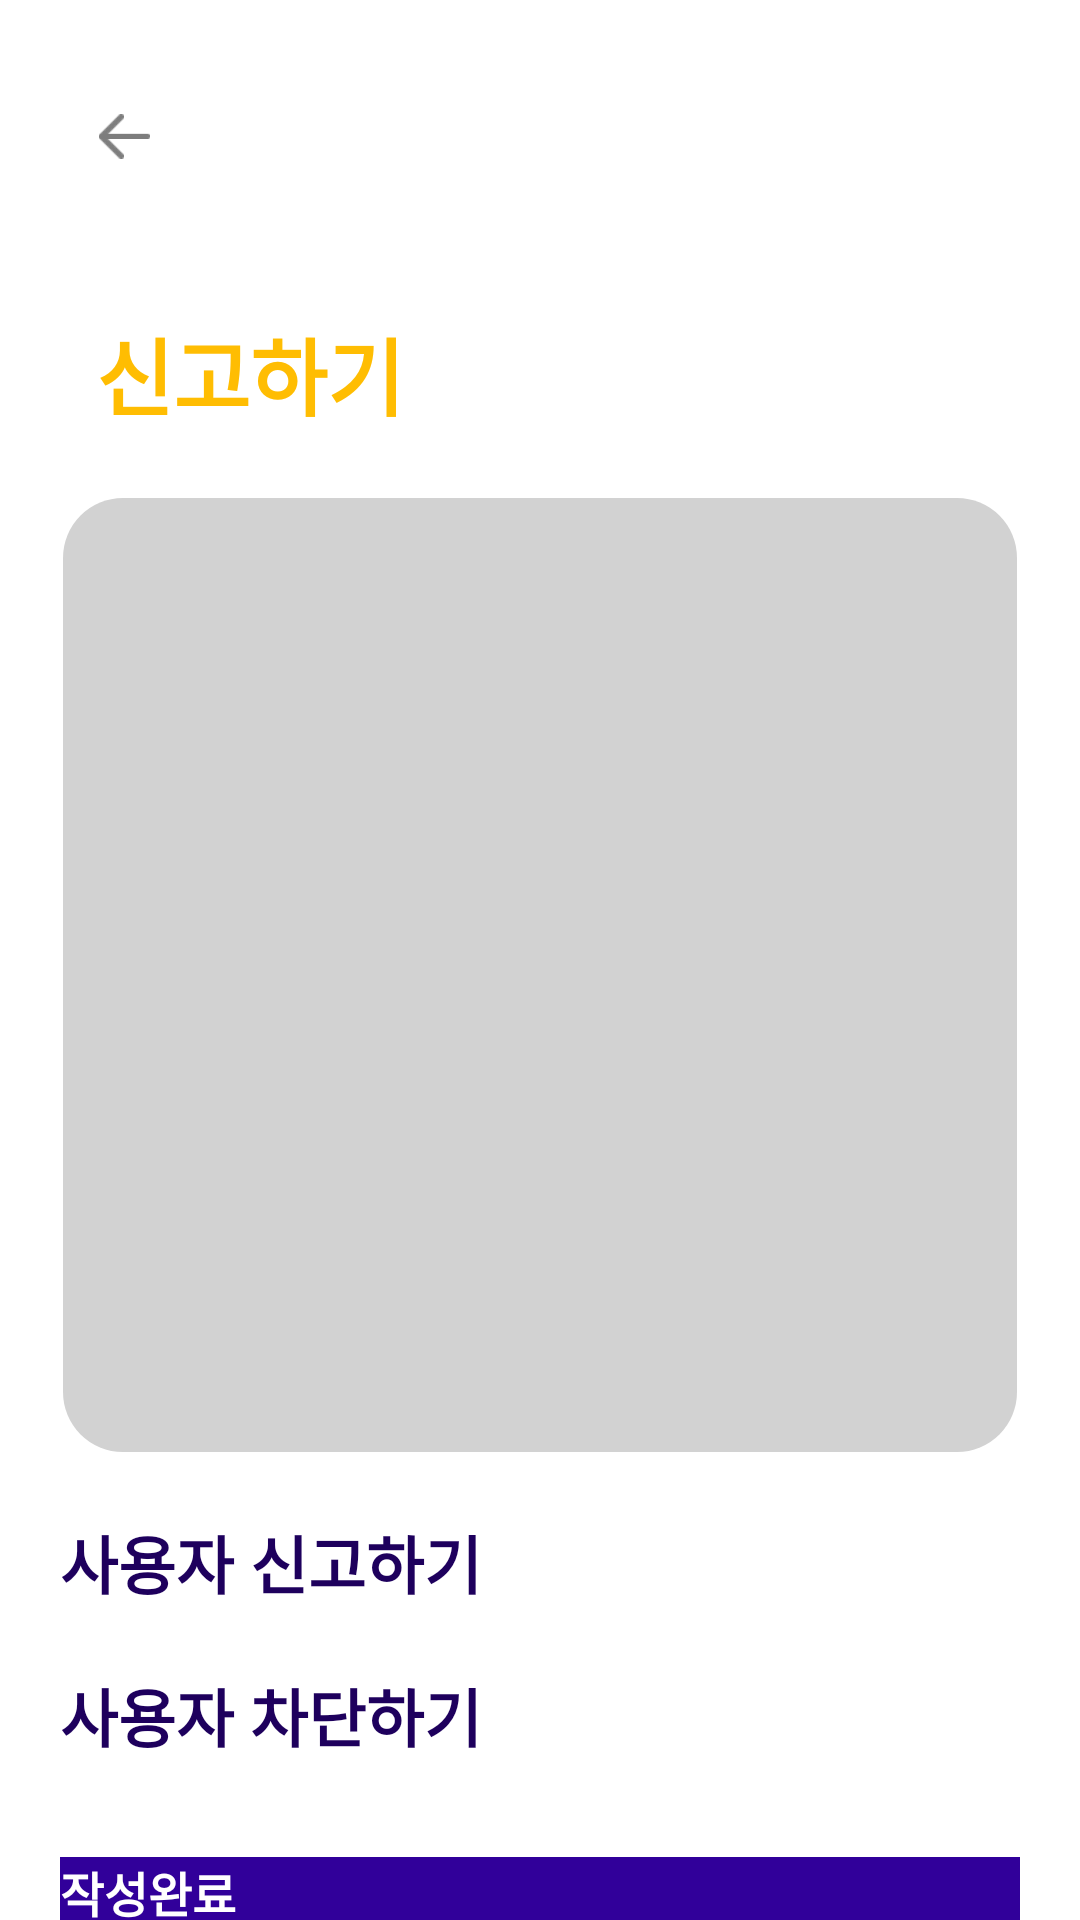

Where icons sit on this 1080px x 1920px app screen, as (x1, y1, x2, y2):
back: (99, 114, 150, 159)
